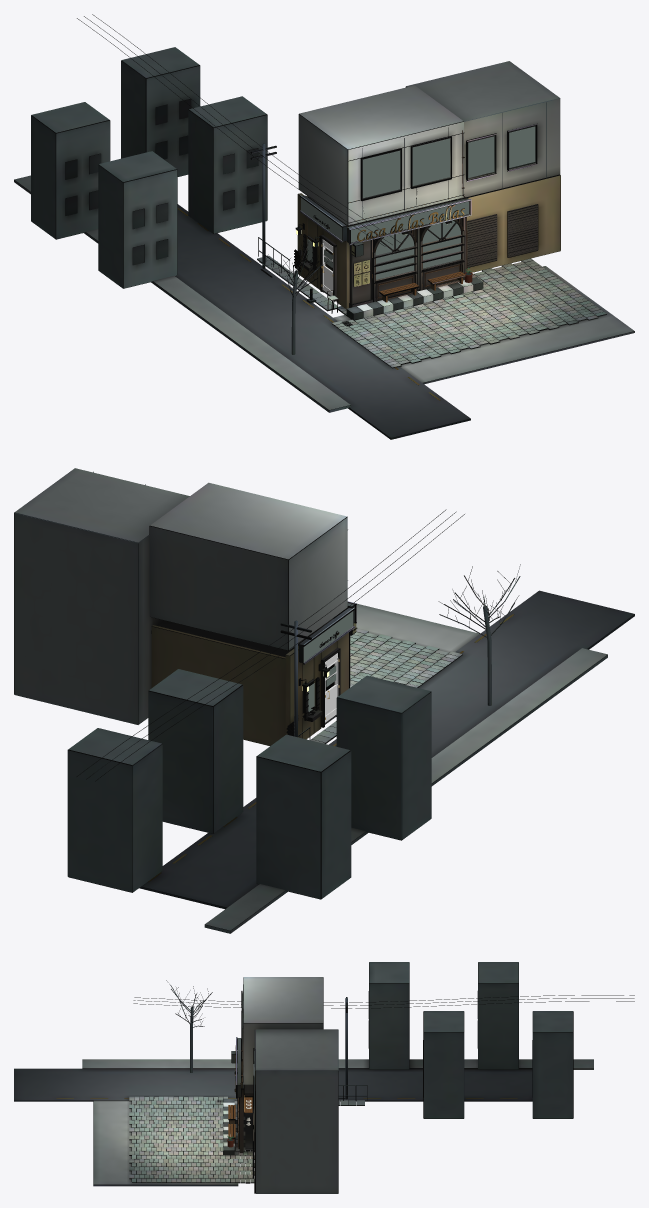
Rendered from casa-storefront.glb.
3 renders of one model, top to bottom at view 1: azimuth 30°, elevation 25°; view 2: azimuth 150°, elevation 25°; view 3: azimuth 270°, elevation 25°, orthographic. The views are drawn at different scales.
Parts seen in each view (by area): view 1: Storefront_Baked_Static, Upper window glass.001, Upper window glass, Fascia_glass, LeftWindow_glass, RightWindow_glass, Adjacent upper glass, Adjacent upper glass.001; view 2: Storefront_Baked_Static, SideFascia_glass; view 3: Storefront_Baked_Static, Refinement_Oak end grain.001.
Part boxes in pixels (left/top/right/bottom): Storefront_Baked_Static: left=14, top=14, right=634, bottom=439; Upper window glass.001: left=412, top=138, right=449, bottom=185; Upper window glass: left=362, top=151, right=399, bottom=198; Fascia_glass: left=351, top=201, right=468, bottom=242; LeftWindow_glass: left=375, top=233, right=414, bottom=279; RightWindow_glass: left=422, top=220, right=460, bottom=268; Adjacent upper glass: left=468, top=136, right=494, bottom=177; Adjacent upper glass.001: left=509, top=126, right=535, bottom=167; Storefront_Baked_Static: left=14, top=468, right=634, bottom=933; SideFascia_glass: left=303, top=611, right=353, bottom=662; Storefront_Baked_Static: left=14, top=962, right=634, bottom=1193; Refinement_Oak end grain.001: left=228, top=1097, right=252, bottom=1137.
Size of the model in its own units: 20.21 by 8.56 by 36.4.
Materials: 14 (6 with a texture image).
